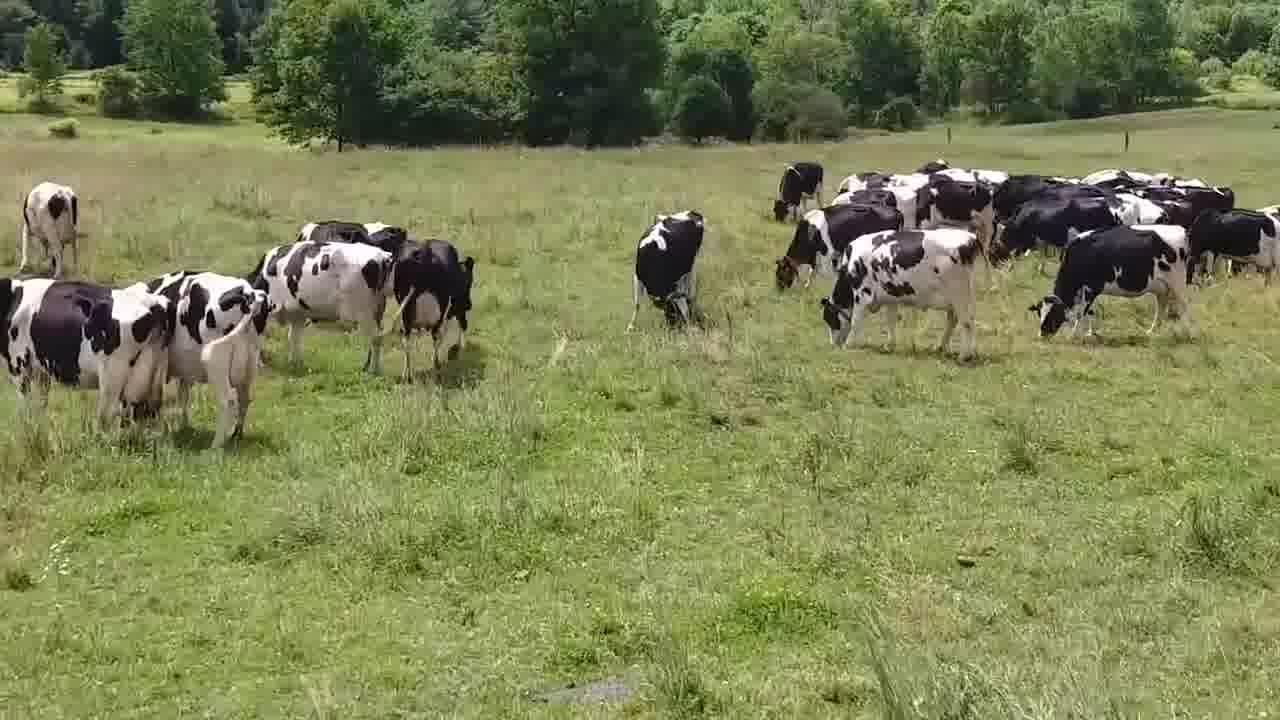cow: (0, 272, 176, 434), (131, 263, 271, 446), (814, 226, 991, 363), (242, 243, 401, 378), (1030, 224, 1206, 343), (773, 199, 912, 296), (389, 235, 477, 374), (621, 205, 709, 331), (996, 193, 1144, 265), (1181, 203, 1280, 280), (13, 176, 86, 276), (298, 210, 401, 250), (767, 155, 827, 218)
